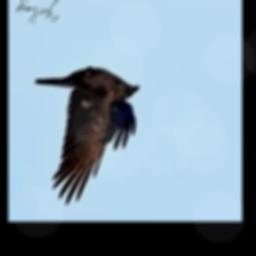Crow: (36, 68, 139, 205)
